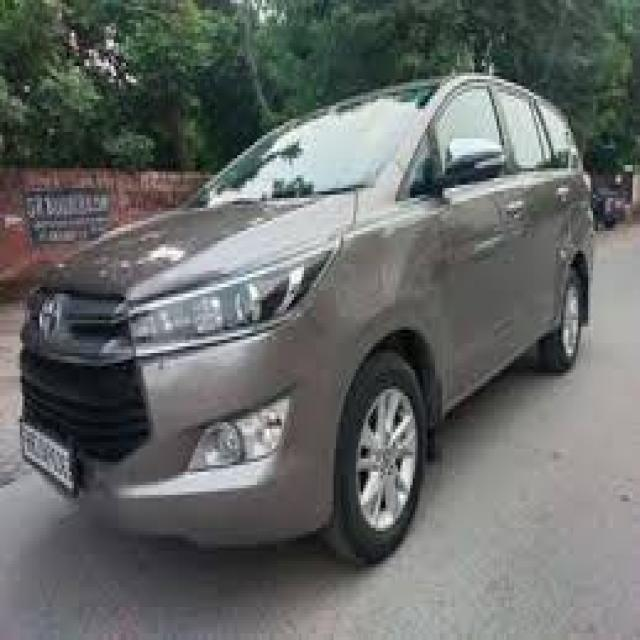light_vehicle: (20, 74, 594, 570)
